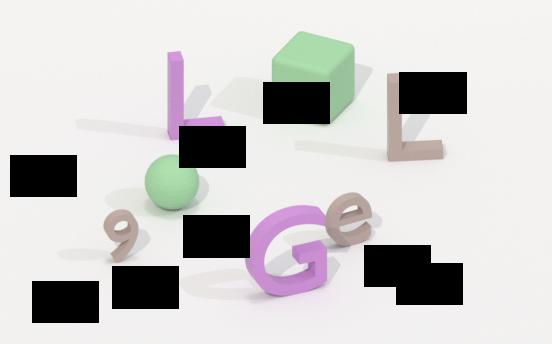9: (99, 205, 147, 264)
G-hoa: (238, 205, 330, 302)
cau: (143, 153, 200, 210)
e: (324, 189, 377, 249)
hop: (266, 32, 359, 129)
l: (161, 49, 230, 143), (384, 70, 449, 165)
